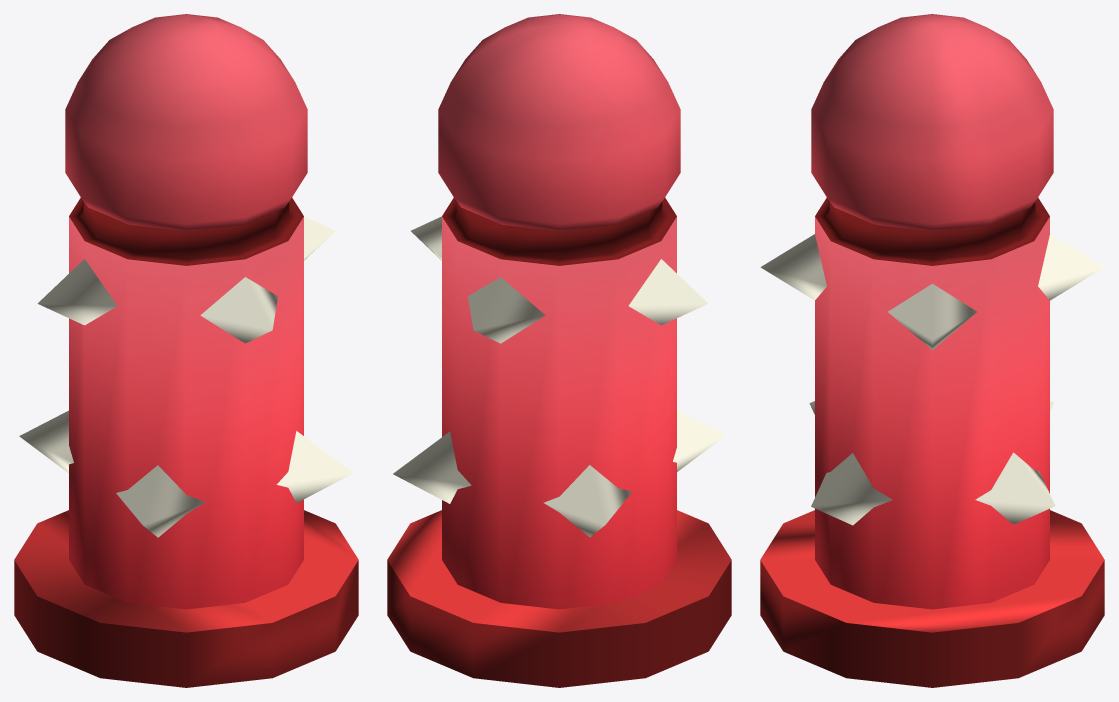
Rendered from obstacle_5.fbx.
3 renders of one model, left to right at view 1: azimuth 30°, elevation 25°; view 2: azimuth 150°, elevation 25°; view 3: azimuth 270°, elevation 25°, orthographic.
Visible parts, largest first — view 1: obstacle_5_b, obstacle_5_a; view 2: obstacle_5_b, obstacle_5_a; view 3: obstacle_5_b, obstacle_5_a.
Boxes of the visible parts, box(x1,y1,x2,y2) form: obstacle_5_b: box(19, 14, 353, 609); obstacle_5_a: box(14, 510, 358, 687); obstacle_5_b: box(393, 14, 725, 609); obstacle_5_a: box(387, 510, 731, 687); obstacle_5_b: box(760, 14, 1104, 609); obstacle_5_a: box(760, 510, 1104, 687).
Bounding box in the file's own units: 2.75 × 5.19 × 2.75.
